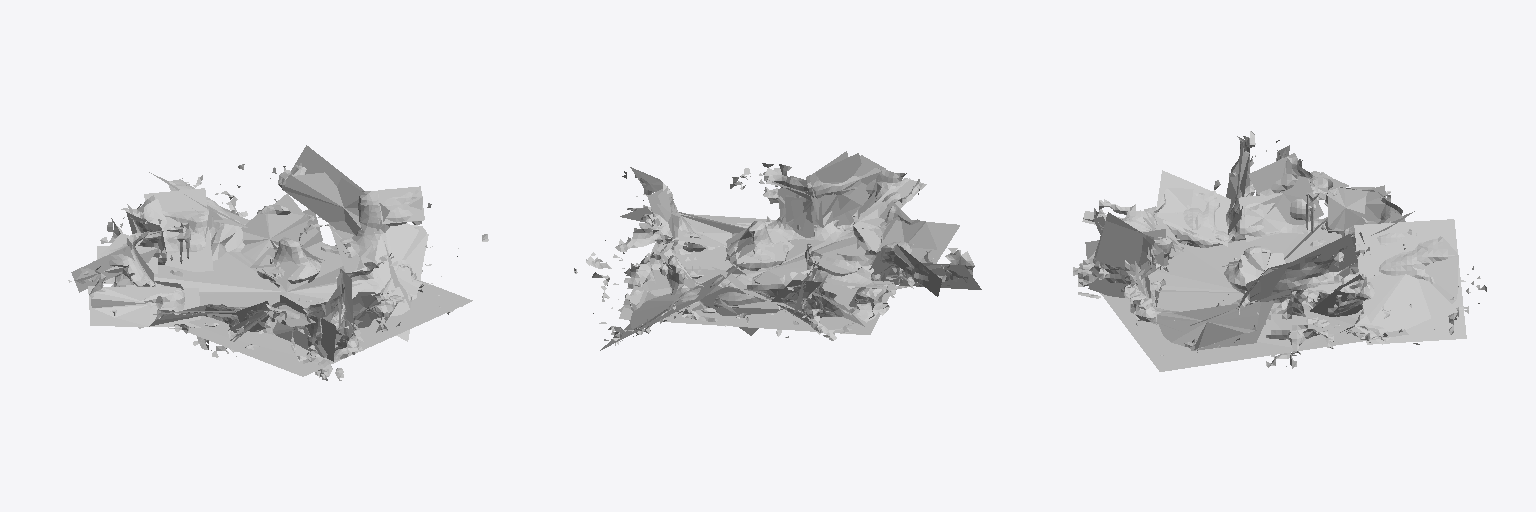
File: Model_cld.obj
3 views of the same model, side by side, from view 1: azimuth 30°, elevation 25°; view 2: azimuth 150°, elevation 25°; view 3: azimuth 270°, elevation 25° (orthographic).
Visible parts, largest first — view 1: PlaneConvexCollider_Horizontal_Area_12.675355_Normal_-0.007861_0, PlaneBBCollider_Horizontal_Area_15.914595_Normal_-0.007861_0.999, PlaneConvexCollider_Area_0.976238_Normal_0.850437_0.281101_0.444, PlaneConvexCollider_Area_1.519384_Normal_-0.179278_0.823044_0.53, PlaneBBCollider_Area_1.463658_Normal_0.239966_0.839053_0.488269_, PlaneConvexCollider_Area_0.751259_Normal_0.536739_0.654153_0.532, PlaneBBCollider_Area_1.190118_Normal_-0.128617_0.649411_0.749482, PlaneConvexCollider_Area_0.890811_Normal_-0.128617_0.649411_0.74, PlaneBBCollider_Area_1.388153_Normal_0.850437_0.281101_0.444678_, PlaneMeshCollider_Area_1.190398_Normal_0.239966_0.839053_0.48826, PlaneMeshCollider_114, PlaneMeshCollider_108 (+9 smaller); view 2: PlaneConvexCollider_Horizontal_Area_12.675355_Normal_-0.007861_0, PlaneBBCollider_Horizontal_Area_15.914595_Normal_-0.007861_0.999, PlaneMeshCollider_108, PlaneBBCollider_Area_1.493682_Normal_-0.260462_0.837642_-0.48012, PlaneBBCollider_Vertical_Area_0.857410_Normal_0.825178_0.084466_, PlaneConvexCollider_Area_2.535135_Normal_-0.583775_0.811858_-0.0, PlaneMeshCollider_Horizontal_Area_12.675355_Normal_-0.007861_0.9, PlaneMeshCollider_67, PlaneBBCollider_Area_0.952955_Normal_-0.562227_0.234856_0.792934, PlaneBBCollider_Area_1.190118_Normal_-0.128617_0.649411_0.749482, PlaneConvexCollider_Area_1.177008_Normal_-0.260462_0.837642_-0.4, PlaneBBCollider_Area_3.287163_Normal_-0.583775_0.811858_-0.00970 (+6 smaller); view 3: PlaneConvexCollider_Horizontal_Area_12.675355_Normal_-0.007861_0, PlaneBBCollider_Area_3.287163_Normal_-0.583775_0.811858_-0.00970, PlaneBBCollider_Horizontal_Area_15.914595_Normal_-0.007861_0.999, PlaneConvexCollider_Area_2.535135_Normal_-0.583775_0.811858_-0.0, PlaneConvexCollider_Area_1.519384_Normal_-0.179278_0.823044_0.53, PlaneBBCollider_Area_0.983415_Normal_0.891838_0.225999_-0.391855, PlaneMeshCollider_Area_2.535135_Normal_-0.583775_0.811858_-0.009, PlaneBBCollider_Area_1.493682_Normal_-0.260462_0.837642_-0.48012, PlaneBBCollider_Area_1.388153_Normal_0.850437_0.281101_0.444678_, PlaneConvexCollider_Area_0.363106_Normal_-0.952463_0.297178_-0.0, PlaneMeshCollider_67, PlaneBBCollider_Area_0.846475_Normal_-0.886694_0.452143_0.096648 (+14 smaller).
Boxes of the visible parts, x1,y1,x2,y2 form: PlaneConvexCollider_Horizontal_Area_12.675355_Normal_-0.007861_0: [154, 245, 407, 357]; PlaneBBCollider_Horizontal_Area_15.914595_Normal_-0.007861_0.999: [183, 242, 472, 376]; PlaneConvexCollider_Area_0.976238_Normal_0.850437_0.281101_0.444: [279, 172, 377, 239]; PlaneConvexCollider_Area_1.519384_Normal_-0.179278_0.823044_0.53: [376, 224, 426, 316]; PlaneBBCollider_Area_1.463658_Normal_0.239966_0.839053_0.488269_: [144, 188, 213, 271]; PlaneConvexCollider_Area_0.751259_Normal_0.536739_0.654153_0.532: [241, 209, 308, 260]; PlaneBBCollider_Area_1.190118_Normal_-0.128617_0.649411_0.749482: [88, 286, 200, 327]; PlaneConvexCollider_Area_0.890811_Normal_-0.128617_0.649411_0.74: [91, 288, 178, 326]; PlaneBBCollider_Area_1.388153_Normal_0.850437_0.281101_0.444678_: [291, 145, 389, 234]; PlaneMeshCollider_Area_1.190398_Normal_0.239966_0.839053_0.48826: [149, 208, 205, 254]; PlaneMeshCollider_114: [103, 254, 162, 315]; PlaneMeshCollider_108: [126, 214, 188, 276]; PlaneConvexCollider_Horizontal_Area_12.675355_Normal_-0.007861_0: [647, 228, 889, 321]; PlaneBBCollider_Horizontal_Area_15.914595_Normal_-0.007861_0.999: [619, 214, 890, 334]; PlaneMeshCollider_108: [799, 250, 868, 326]; PlaneBBCollider_Area_1.493682_Normal_-0.260462_0.837642_-0.48012: [876, 220, 959, 279]; PlaneBBCollider_Vertical_Area_0.857410_Normal_0.825178_0.084466_: [806, 153, 861, 217]; PlaneConvexCollider_Area_2.535135_Normal_-0.583775_0.811858_-0.0: [629, 274, 740, 328]; PlaneMeshCollider_Horizontal_Area_12.675355_Normal_-0.007861_0.9: [652, 221, 872, 322]; PlaneMeshCollider_67: [618, 222, 696, 284]; PlaneBBCollider_Area_0.952955_Normal_-0.562227_0.234856_0.792934: [700, 266, 780, 335]; PlaneBBCollider_Area_1.190118_Normal_-0.128617_0.649411_0.749482: [884, 263, 981, 289]; PlaneConvexCollider_Area_1.177008_Normal_-0.260462_0.837642_-0.4: [889, 220, 936, 279]; PlaneBBCollider_Area_3.287163_Normal_-0.583775_0.811858_-0.00970: [600, 262, 743, 350]; PlaneConvexCollider_Horizontal_Area_12.675355_Normal_-0.007861_0: [1121, 218, 1362, 347]; PlaneBBCollider_Area_3.287163_Normal_-0.583775_0.811858_-0.00970: [1354, 219, 1466, 344]; PlaneBBCollider_Horizontal_Area_15.914595_Normal_-0.007861_0.999: [1079, 263, 1408, 371]; PlaneConvexCollider_Area_2.535135_Normal_-0.583775_0.811858_-0.0: [1355, 238, 1458, 331]; PlaneConvexCollider_Area_1.519384_Normal_-0.179278_0.823044_0.53: [1157, 302, 1260, 349]; PlaneBBCollider_Area_0.983415_Normal_0.891838_0.225999_-0.391855: [1088, 221, 1153, 298]; PlaneMeshCollider_Area_2.535135_Normal_-0.583775_0.811858_-0.009: [1370, 229, 1458, 331]; PlaneBBCollider_Area_1.493682_Normal_-0.260462_0.837642_-0.48012: [1156, 170, 1230, 246]; PlaneBBCollider_Area_1.388153_Normal_0.850437_0.281101_0.444678_: [1246, 234, 1357, 301]; PlaneConvexCollider_Area_0.363106_Normal_-0.952463_0.297178_-0.0: [1328, 188, 1367, 229]; PlaneMeshCollider_67: [1294, 255, 1360, 339]; PlaneBBCollider_Area_0.846475_Normal_-0.886694_0.452143_0.096648: [1248, 153, 1323, 224].
Size of the model in its own units: 6.73 by 2.18 by 6.35.